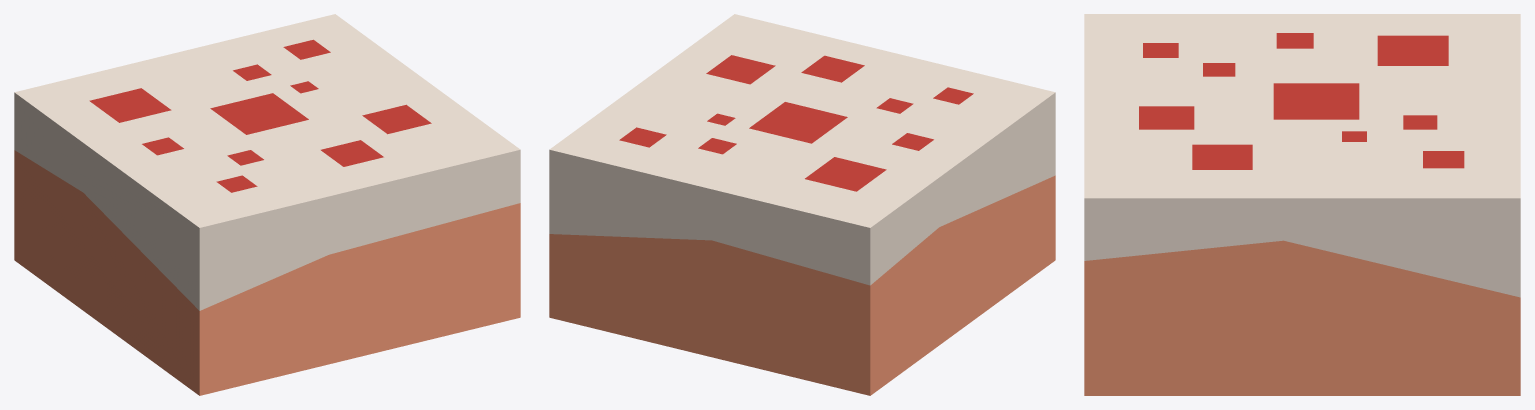
Rendered from Cake.fbx.
The picture shows the model from 3 angles, left to right: view 1: azimuth 30°, elevation 25°; view 2: azimuth 150°, elevation 25°; view 3: azimuth 270°, elevation 25°; orthographic projection. The views are drawn at different scales.
Visible parts, largest first — view 1: Cake; view 2: Cake; view 3: Cake.
Boxes of the visible parts, x1,y1,x2,y2 form: Cake: (14,14,520,395); Cake: (549,14,1055,395); Cake: (1084,14,1520,395).
Bounding box in the file's own units: 49.13 × 25.01 × 49.13.
